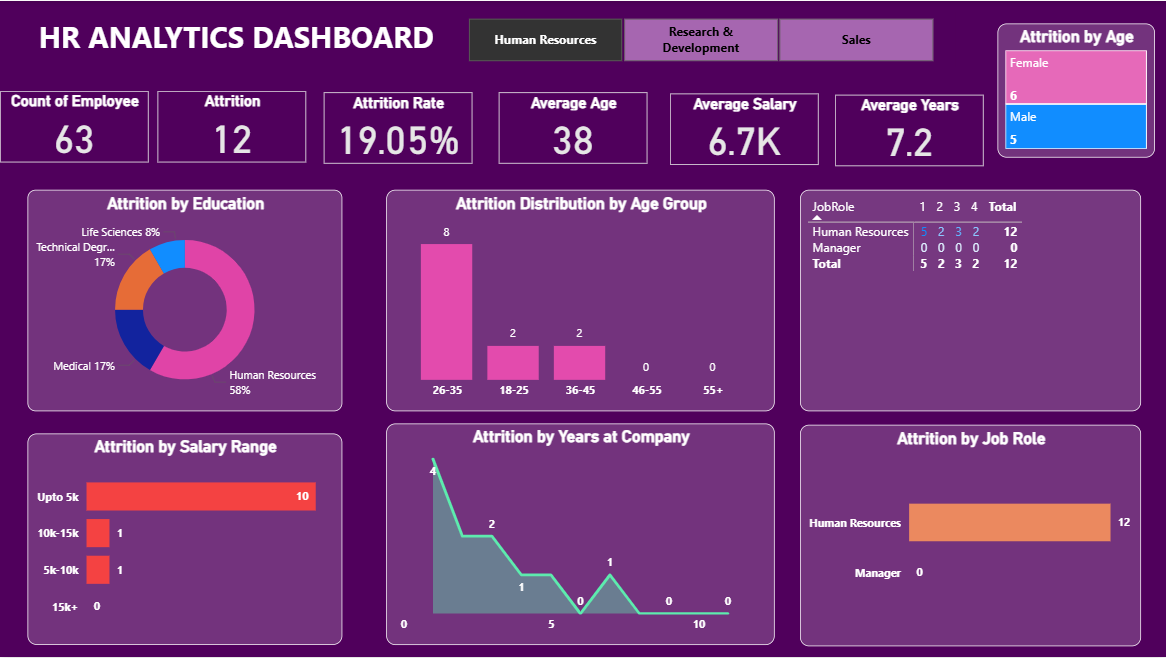

Layout of this report page (visuals, bound fields, positions):
{"tool":"powerbi","page":{"name":"Page 1","canvas":[1280,720],"ordinal":0},"visuals":[{"type":"card","title":"Count of Employee","fields":{"Values":["CountNonNull(HR_Analytics.EmpID)"]},"box":[0,98.8,163.3,78.2],"z":0},{"type":"card","title":"Attrition","fields":{"Values":["Sum(HR_Analytics.AttritionCount)"]},"box":[172.9,98.8,163.3,78.2],"z":1000},{"type":"card","title":"Attrition Rate","fields":{"Values":["HR_Analytics.AttritionRate"]},"box":[355.4,100.2,163.3,78.2],"z":2000},{"type":"card","title":"Average Age","fields":{"Values":["Avg(HR_Analytics.Age)"]},"box":[547.5,100.2,163.3,78.2],"z":3000},{"type":"card","title":"Average Salary","fields":{"Values":["Avg(HR_Analytics.MonthlyIncome)"]},"box":[735.5,101.5,163.3,78.2],"z":4000},{"type":"card","title":"Average Years","fields":{"Values":["Avg(HR_Analytics.YearsAtCompany)"]},"box":[916.6,102.9,163.3,78.2],"z":5000},{"type":"donutChart","title":"Attrition by Education","fields":{"Category":["HR_Analytics.EducationField"],"Y":["Sum(HR_Analytics.AttritionCount)"]},"box":[30.2,207.2,345.8,242.9],"z":6000},{"type":"columnChart","title":"Attrition Distribution by Age Group","fields":{"Category":["HR_Analytics.AgeGroup"],"Y":["Sum(HR_Analytics.AttritionCount)"]},"box":[424,207.2,426.8,242.9],"z":7000},{"type":"pivotTable","fields":{"Rows":["HR_Analytics.JobRole"],"Columns":["HR_Analytics.JobSatisfaction"],"Values":["Sum(HR_Analytics.AttritionCount)"]},"box":[878.2,207.2,374.6,242.9],"z":8000},{"type":"barChart","title":"Attrition by Salary Range","fields":{"Category":["HR_Analytics.SalarySlab"],"Y":["Sum(HR_Analytics.AttritionCount)"]},"box":[30.2,474.8,345.8,231.9],"z":9000},{"type":"barChart","title":"Attrition by Job Role","fields":{"Category":["HR_Analytics.JobRole"],"Y":["Sum(HR_Analytics.AttritionCount)"]},"box":[878.2,465.2,374.6,242.9],"z":10000},{"type":"areaChart","title":"Attrition by Years at Company","fields":{"Category":["HR_Analytics.YearsAtCompany"],"Y":["Sum(HR_Analytics.AttritionCount)"]},"box":[424,463.8,426.8,242.9],"z":11000},{"type":"treemap","title":"Attrition by Age","fields":{"Group":["HR_Analytics.Gender"],"Values":["Sum(HR_Analytics.AttritionCount)"]},"box":[1095,24.7,172.9,146.8],"z":12000},{"type":"slicer","fields":{"Values":["HR_Analytics.Department"]},"box":[488.5,12.3,559.9,60.4],"z":13000},{"type":"textbox","box":[30.2,12.3,458.3,60.4],"z":14000}]}

Visuals, with their boxes in screenshot pixels (x1, y1, x2, y2), scaled from the page's 1280x720 canvas onto the 1166x658 screenshot:
"Count of Employee" card: [0, 90, 149, 162]
"Attrition" card: [158, 90, 306, 162]
"Attrition Rate" card: [324, 92, 473, 163]
"Average Age" card: [499, 92, 647, 163]
"Average Salary" card: [670, 93, 819, 164]
"Average Years" card: [835, 94, 984, 166]
"Attrition by Education" donutChart: [28, 189, 343, 411]
"Attrition Distribution by Age Group" columnChart: [386, 189, 775, 411]
pivotTable - HR_Analytics.JobRole x HR_Analytics.JobSatisfaction: [800, 189, 1141, 411]
"Attrition by Salary Range" barChart: [28, 434, 343, 646]
"Attrition by Job Role" barChart: [800, 425, 1141, 647]
"Attrition by Years at Company" areaChart: [386, 424, 775, 646]
"Attrition by Age" treemap: [997, 23, 1155, 157]
slicer - HR_Analytics.Department: [445, 11, 955, 66]
textbox: [28, 11, 445, 66]
